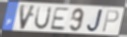9: (69, 7, 85, 33)
E: (48, 6, 70, 31)
J: (85, 9, 104, 33)
P: (101, 10, 121, 33)
U: (33, 6, 53, 31)
V: (19, 3, 37, 31)
